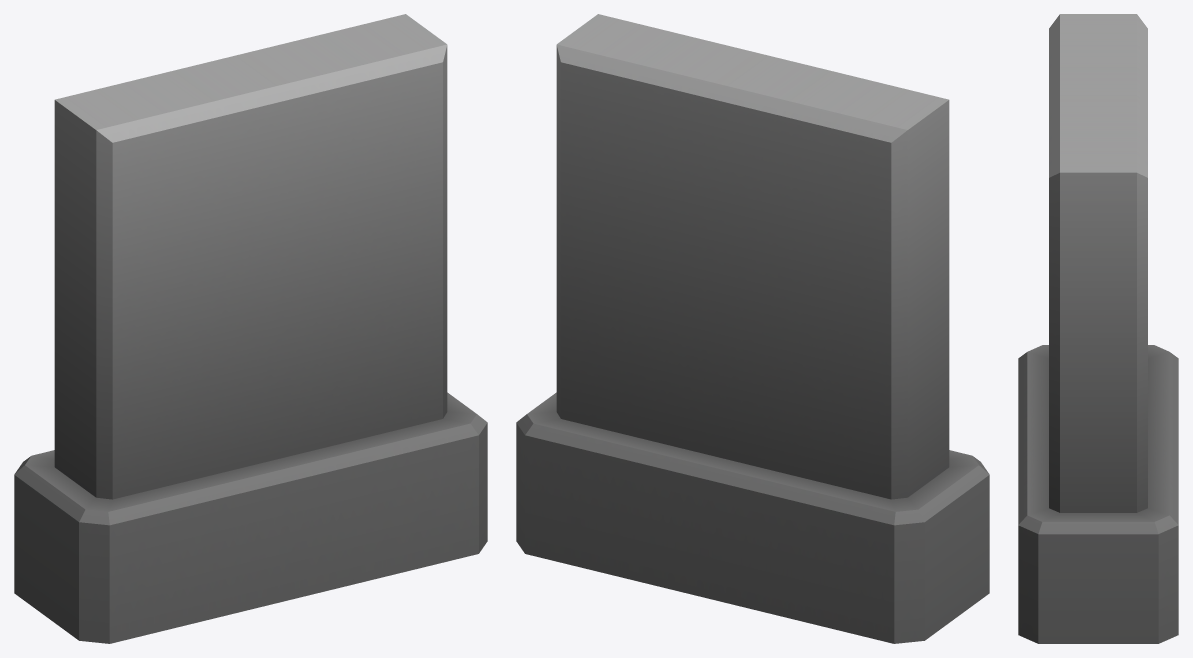
Rendered from TombstoneBlank1.fbx.
The picture shows the model from 3 angles, left to right: view 1: azimuth 30°, elevation 25°; view 2: azimuth 150°, elevation 25°; view 3: azimuth 270°, elevation 25°; orthographic projection. The views are drawn at different scales.
Visible parts, largest first — view 1: TombstoneBlank1; view 2: TombstoneBlank1; view 3: TombstoneBlank1.
Part boxes in pixels (bbox=[...]): TombstoneBlank1: bbox=[14, 14, 487, 643]; TombstoneBlank1: bbox=[516, 14, 989, 643]; TombstoneBlank1: bbox=[1018, 14, 1178, 643].
Size of the model in its own units: 1.16 by 1.35 by 0.4277.
Materials: 1 (1 with a texture image).
